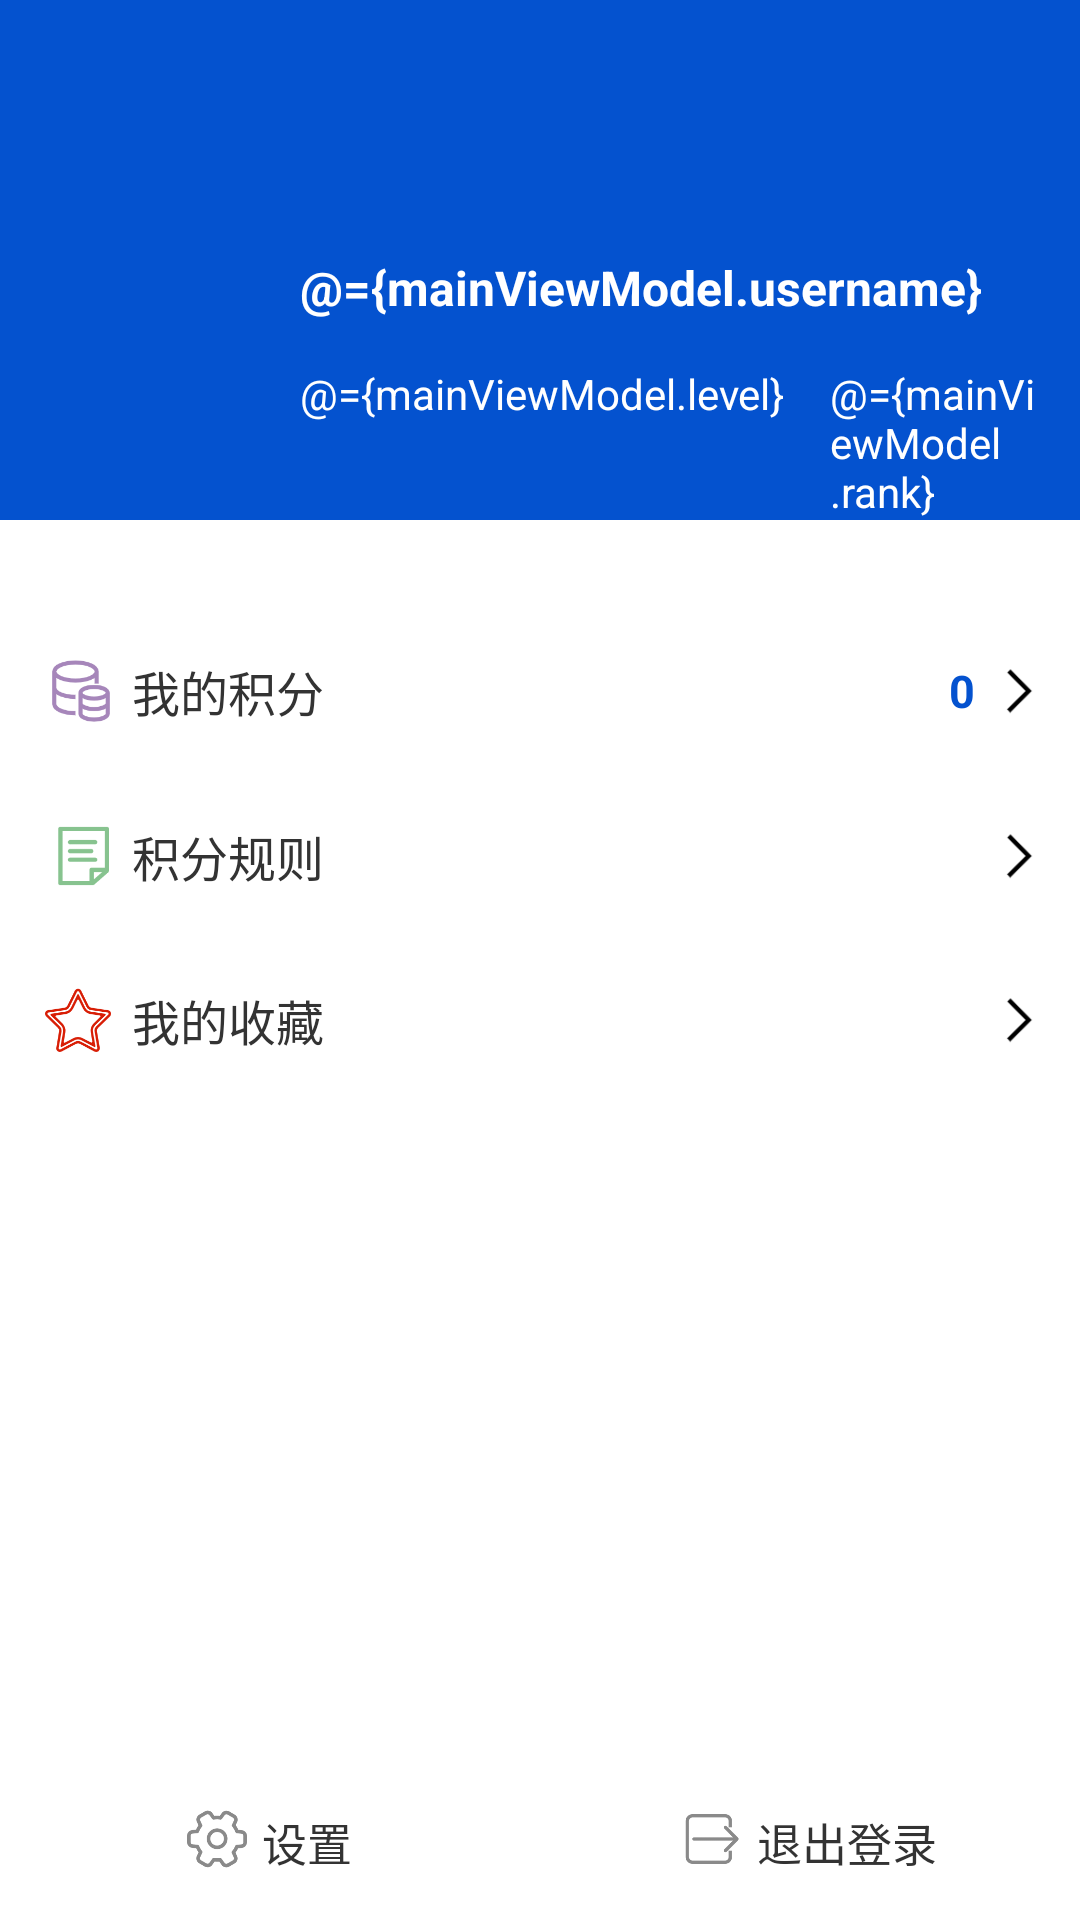

Named icons in this screenshot (1080*1920) and their bounding boxes, (left=x1, top=y1, right=x2, bottom=y2):
mine collection: (left=45, top=988, right=111, bottom=1052)
mine rule: (left=58, top=827, right=109, bottom=885)
mine score: (left=52, top=660, right=110, bottom=722)
right arrow: (left=1007, top=669, right=1032, bottom=713), (left=1007, top=834, right=1032, bottom=878), (left=1007, top=998, right=1032, bottom=1042)
